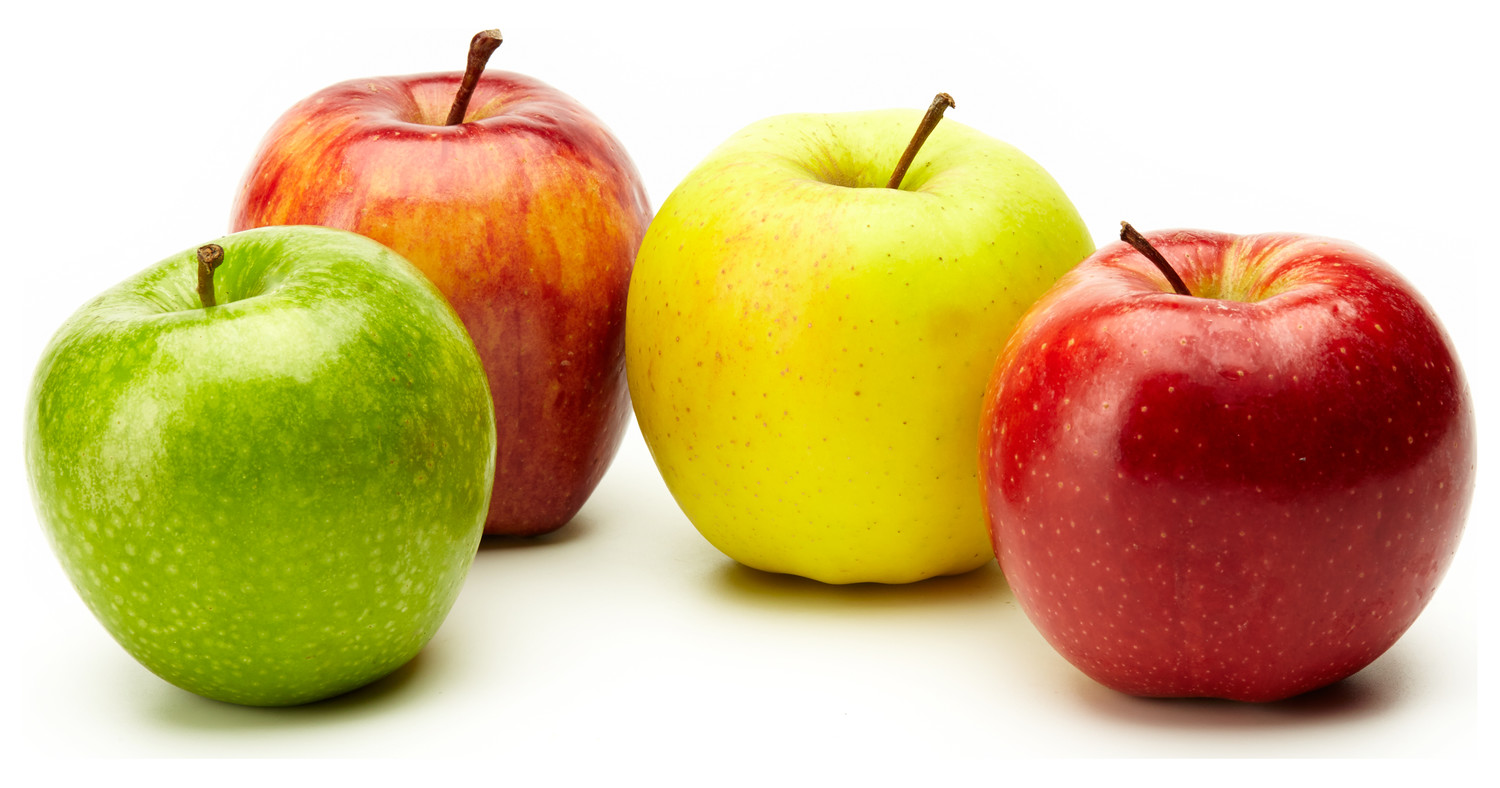apple: (979, 214, 1488, 711), (617, 98, 1108, 603), (25, 214, 503, 722), (212, 63, 667, 582)
